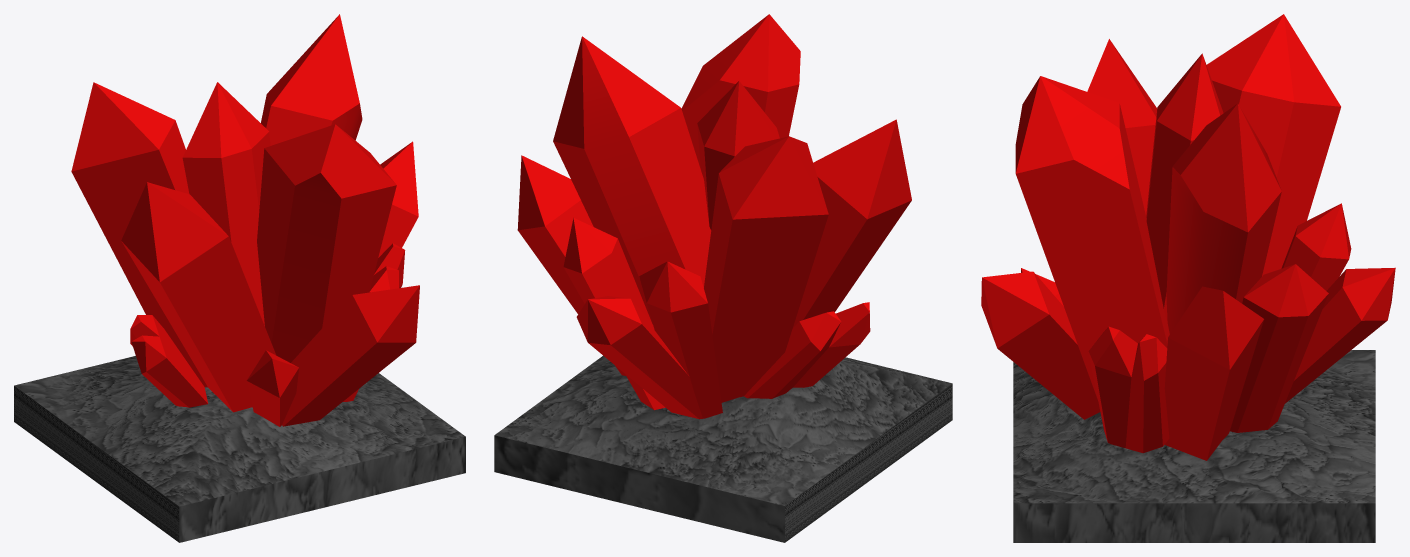
The model's file is gemRed_01.fbx.
3 views of the same model, side by side, from view 1: azimuth 30°, elevation 25°; view 2: azimuth 150°, elevation 25°; view 3: azimuth 270°, elevation 25° (orthographic). The views are drawn at different scales.
Visible parts, largest first — view 1: polySurface3; view 2: polySurface3; view 3: polySurface3.
Part boxes in pixels (box(x1,y1,x2,y2)): polySurface3: box(14, 14, 465, 542); polySurface3: box(494, 14, 952, 542); polySurface3: box(981, 14, 1395, 542).
Bounding box in the file's own units: 2.3 × 2.29 × 2.6.
